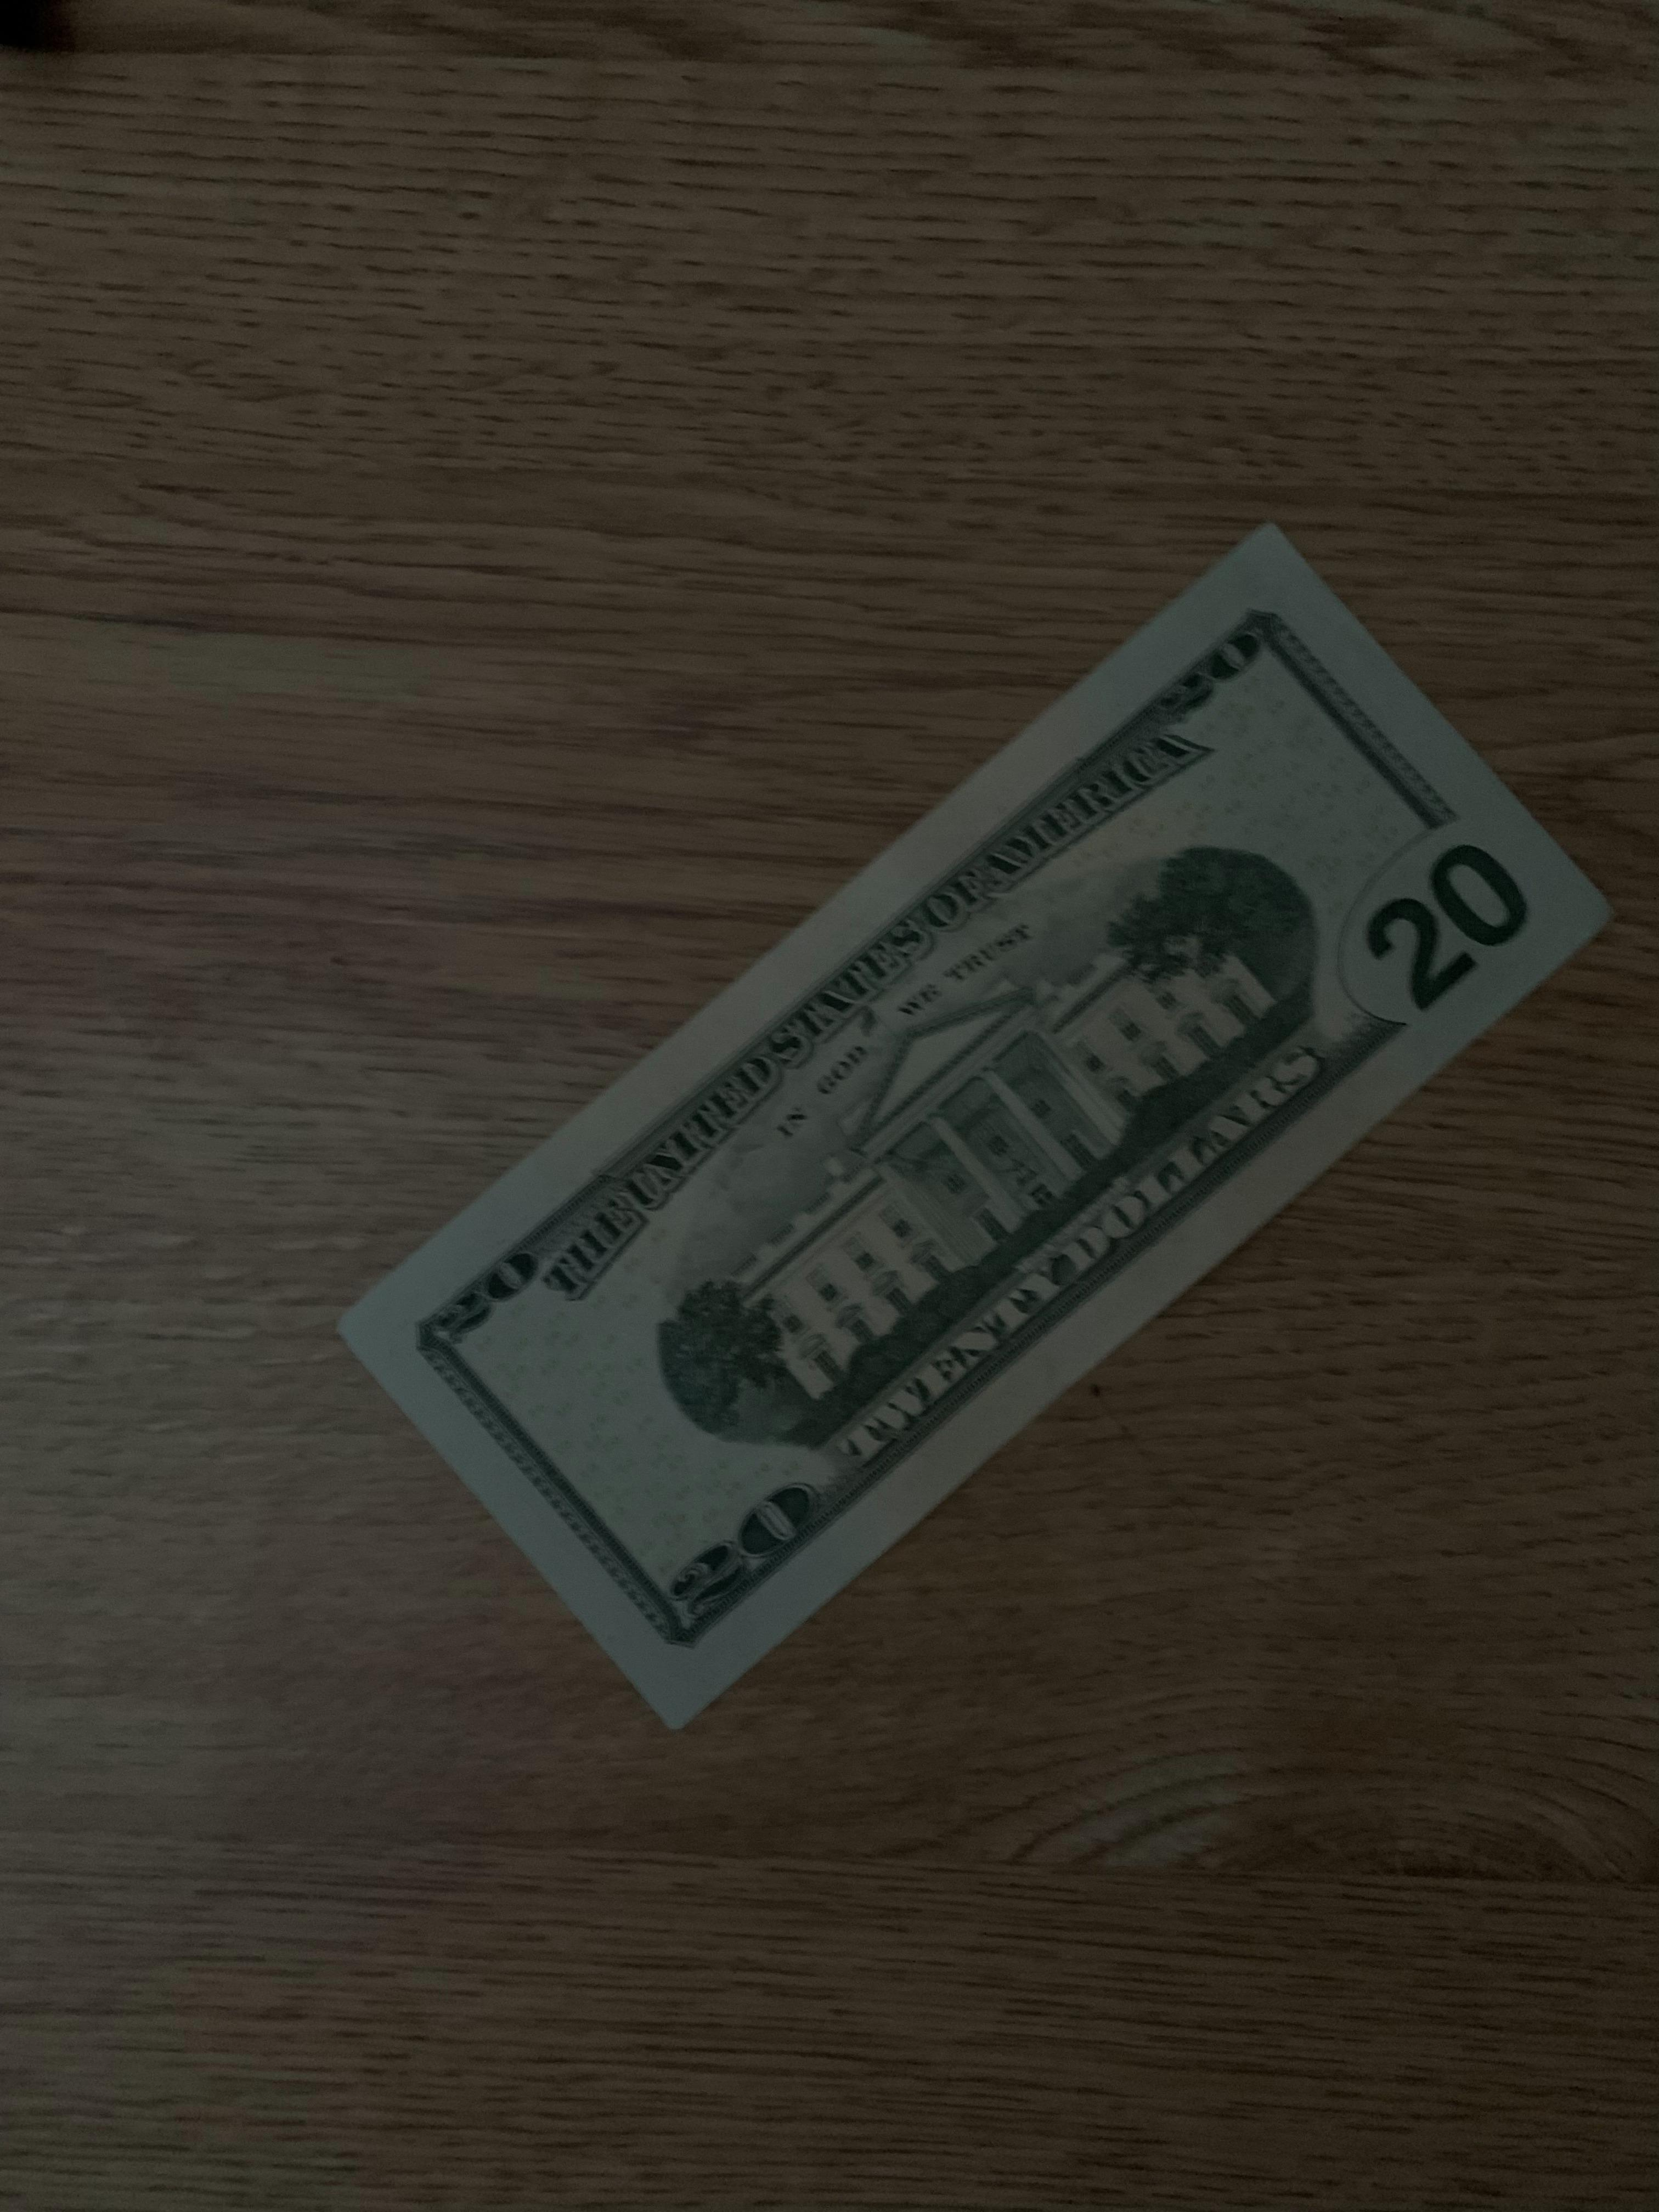TwentyBill: (333, 503, 1642, 1735)
